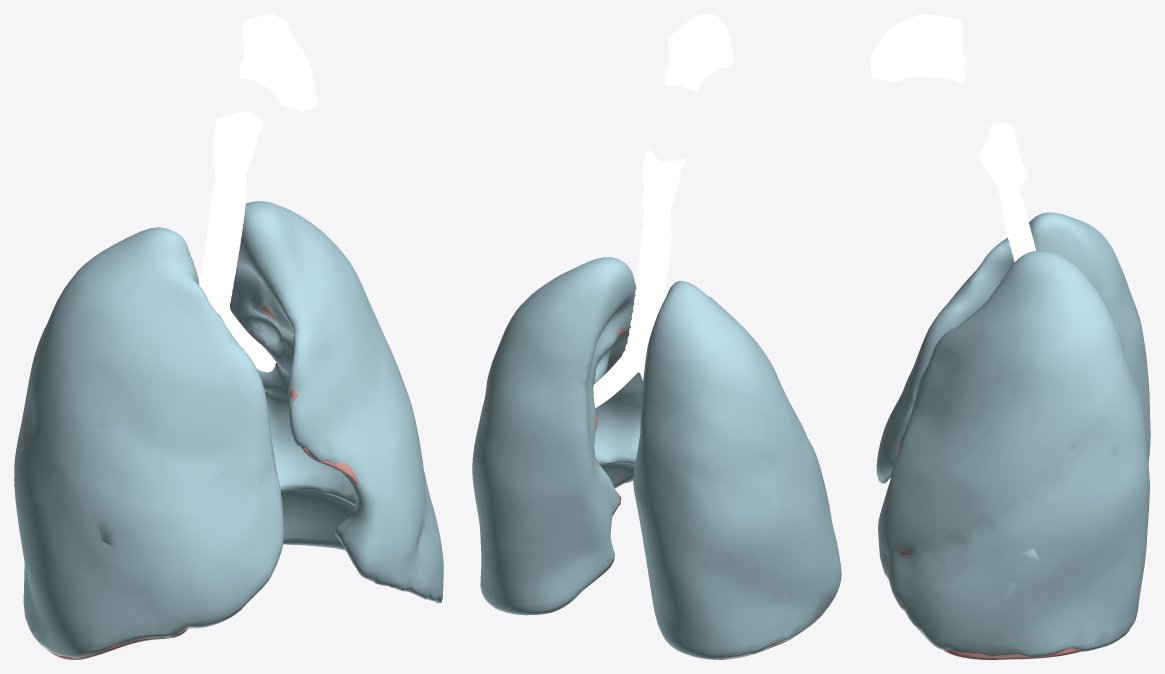
Rendered from respiratory.glb.
The picture shows the model from 3 angles, left to right: view 1: azimuth 30°, elevation 25°; view 2: azimuth 150°, elevation 25°; view 3: azimuth 270°, elevation 25°; orthographic projection. The views are drawn at different scales.
Parts seen in each view (by area): view 1: Pleura, Mucosa of nasal cavity, Trachea, Laryngopharynx, Left main bronchus; view 2: Pleura, Mucosa of nasal cavity, Trachea, Laryngopharynx, Left main bronchus; view 3: Pleura, Mucosa of nasal cavity, Laryngopharynx, Trachea, Inferior lobe of left lung.
Boxes of the visible parts, x1,y1,x2,y2 form: Pleura: [14, 201, 443, 658]; Mucosa of nasal cavity: [239, 14, 318, 111]; Trachea: [199, 193, 246, 316]; Laryngopharynx: [212, 111, 263, 199]; Left main bronchus: [221, 310, 273, 371]; Pleura: [472, 257, 841, 659]; Mucosa of nasal cavity: [665, 14, 733, 92]; Trachea: [621, 221, 671, 372]; Laryngopharynx: [641, 150, 685, 230]; Left main bronchus: [593, 344, 637, 407]; Pleura: [876, 212, 1150, 657]; Mucosa of nasal cavity: [870, 14, 966, 84]; Laryngopharynx: [979, 122, 1028, 205]; Trachea: [1002, 194, 1035, 261]; Inferior lobe of left lung: [942, 648, 1082, 659].
Bounding box in the file's own units: 0.2634 × 0.4306 × 0.1926.
